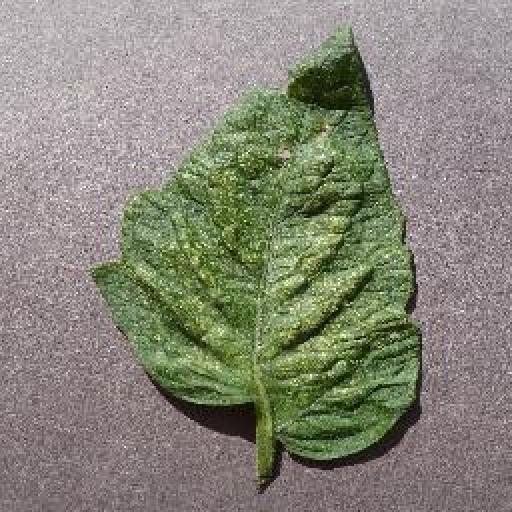disease_tomato: (87, 23, 426, 461)
